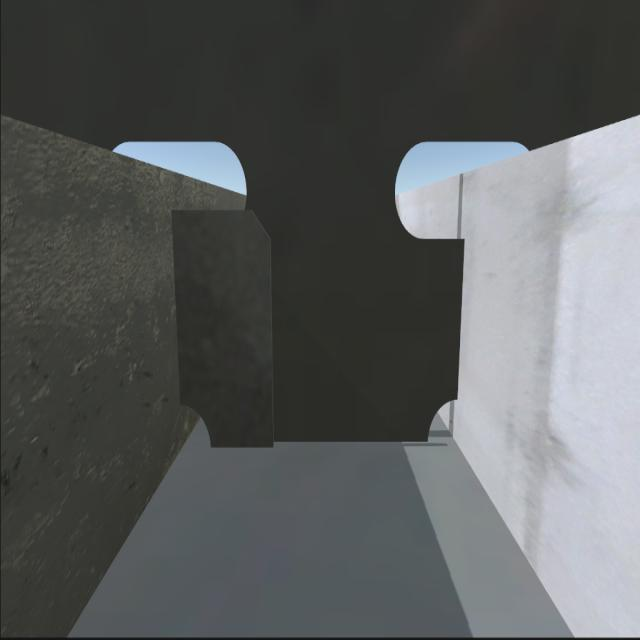fillet_hole: (422, 394, 466, 454), (180, 402, 215, 452)
fillet_yong_jeop_jang: (208, 433, 427, 448)
longi_yong_jeop_jang: (164, 217, 185, 406), (448, 238, 472, 400)
plate_CP03: (170, 201, 279, 451)
